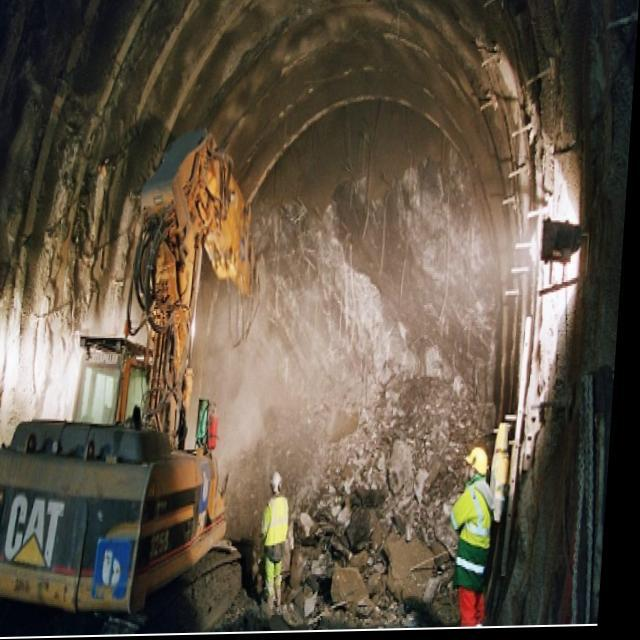hard_hat: (460, 442, 490, 488), (267, 466, 288, 499)
vest: (443, 481, 504, 596), (257, 485, 294, 560)
